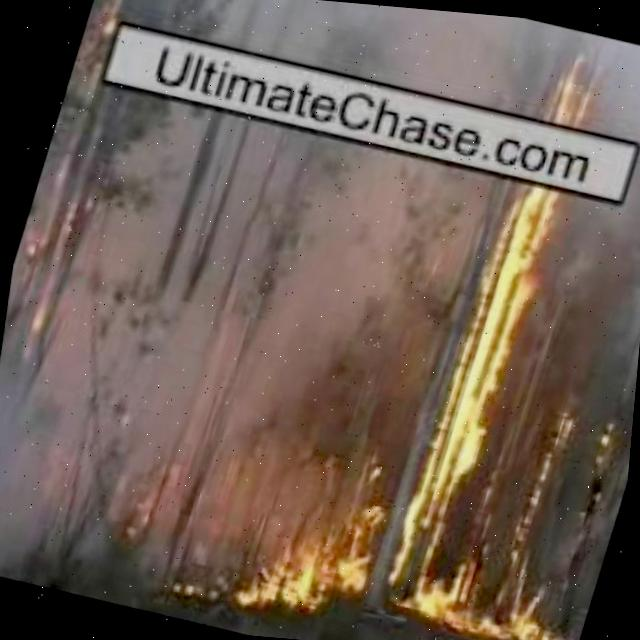fire: (381, 172, 563, 631), (240, 523, 389, 640), (476, 588, 588, 640), (543, 42, 608, 127)
